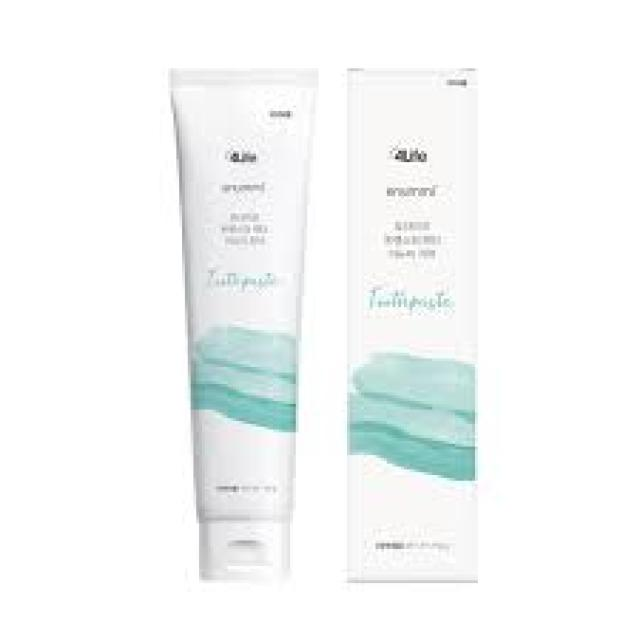toothpaste: (160, 55, 321, 609)
